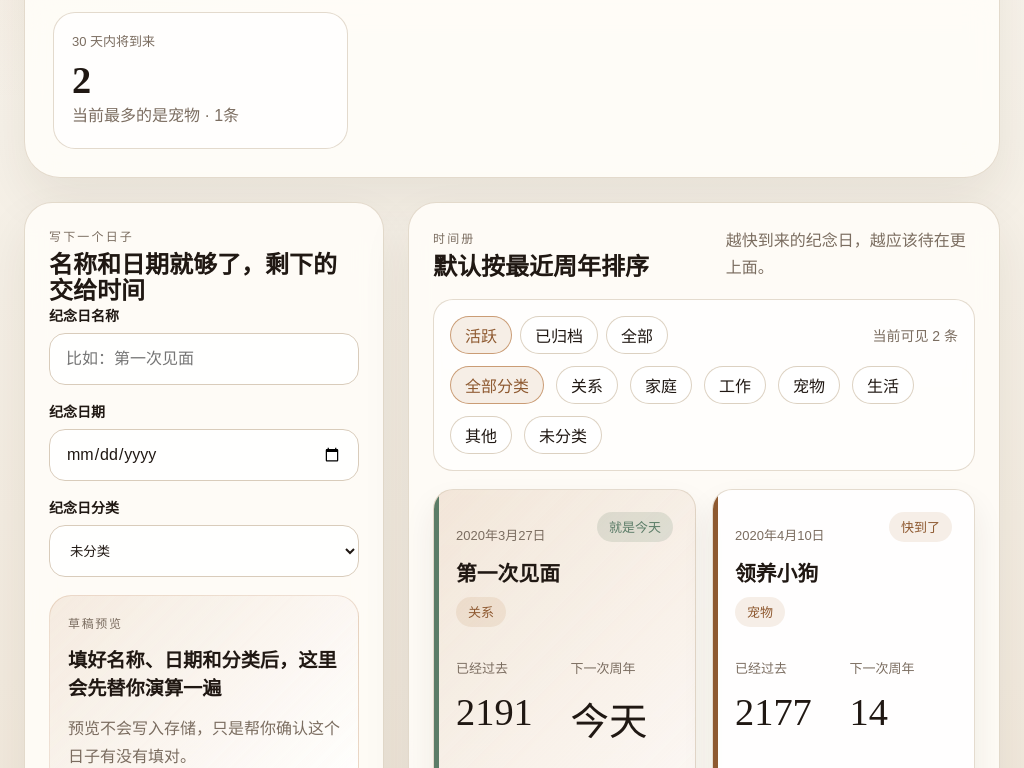
App › 切换筛选后摘要与列表同步更新
(page scrolled)
What coordinates should you click on to do the following:
click the button "宠物"
I would click on:
 (809, 385)
Its box is [778,366,840,404].
(page scrolled)
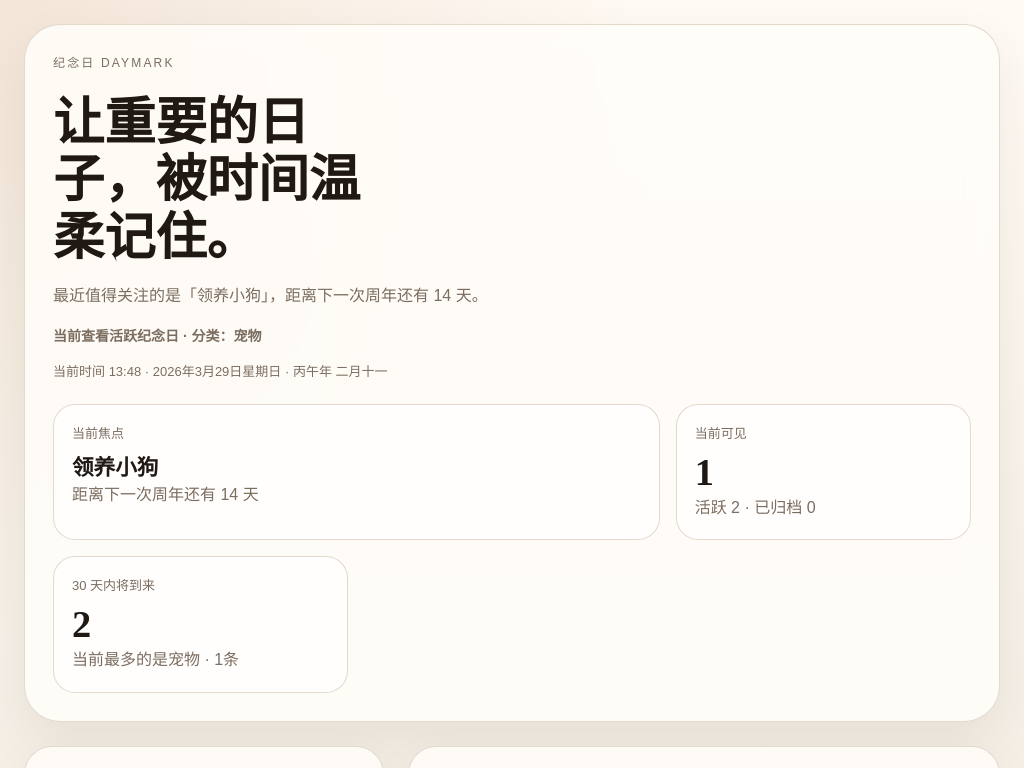
Check: the text "当前查看活跃纪念日 · 分类：宠物" is shown, box [53,328,262,344]
